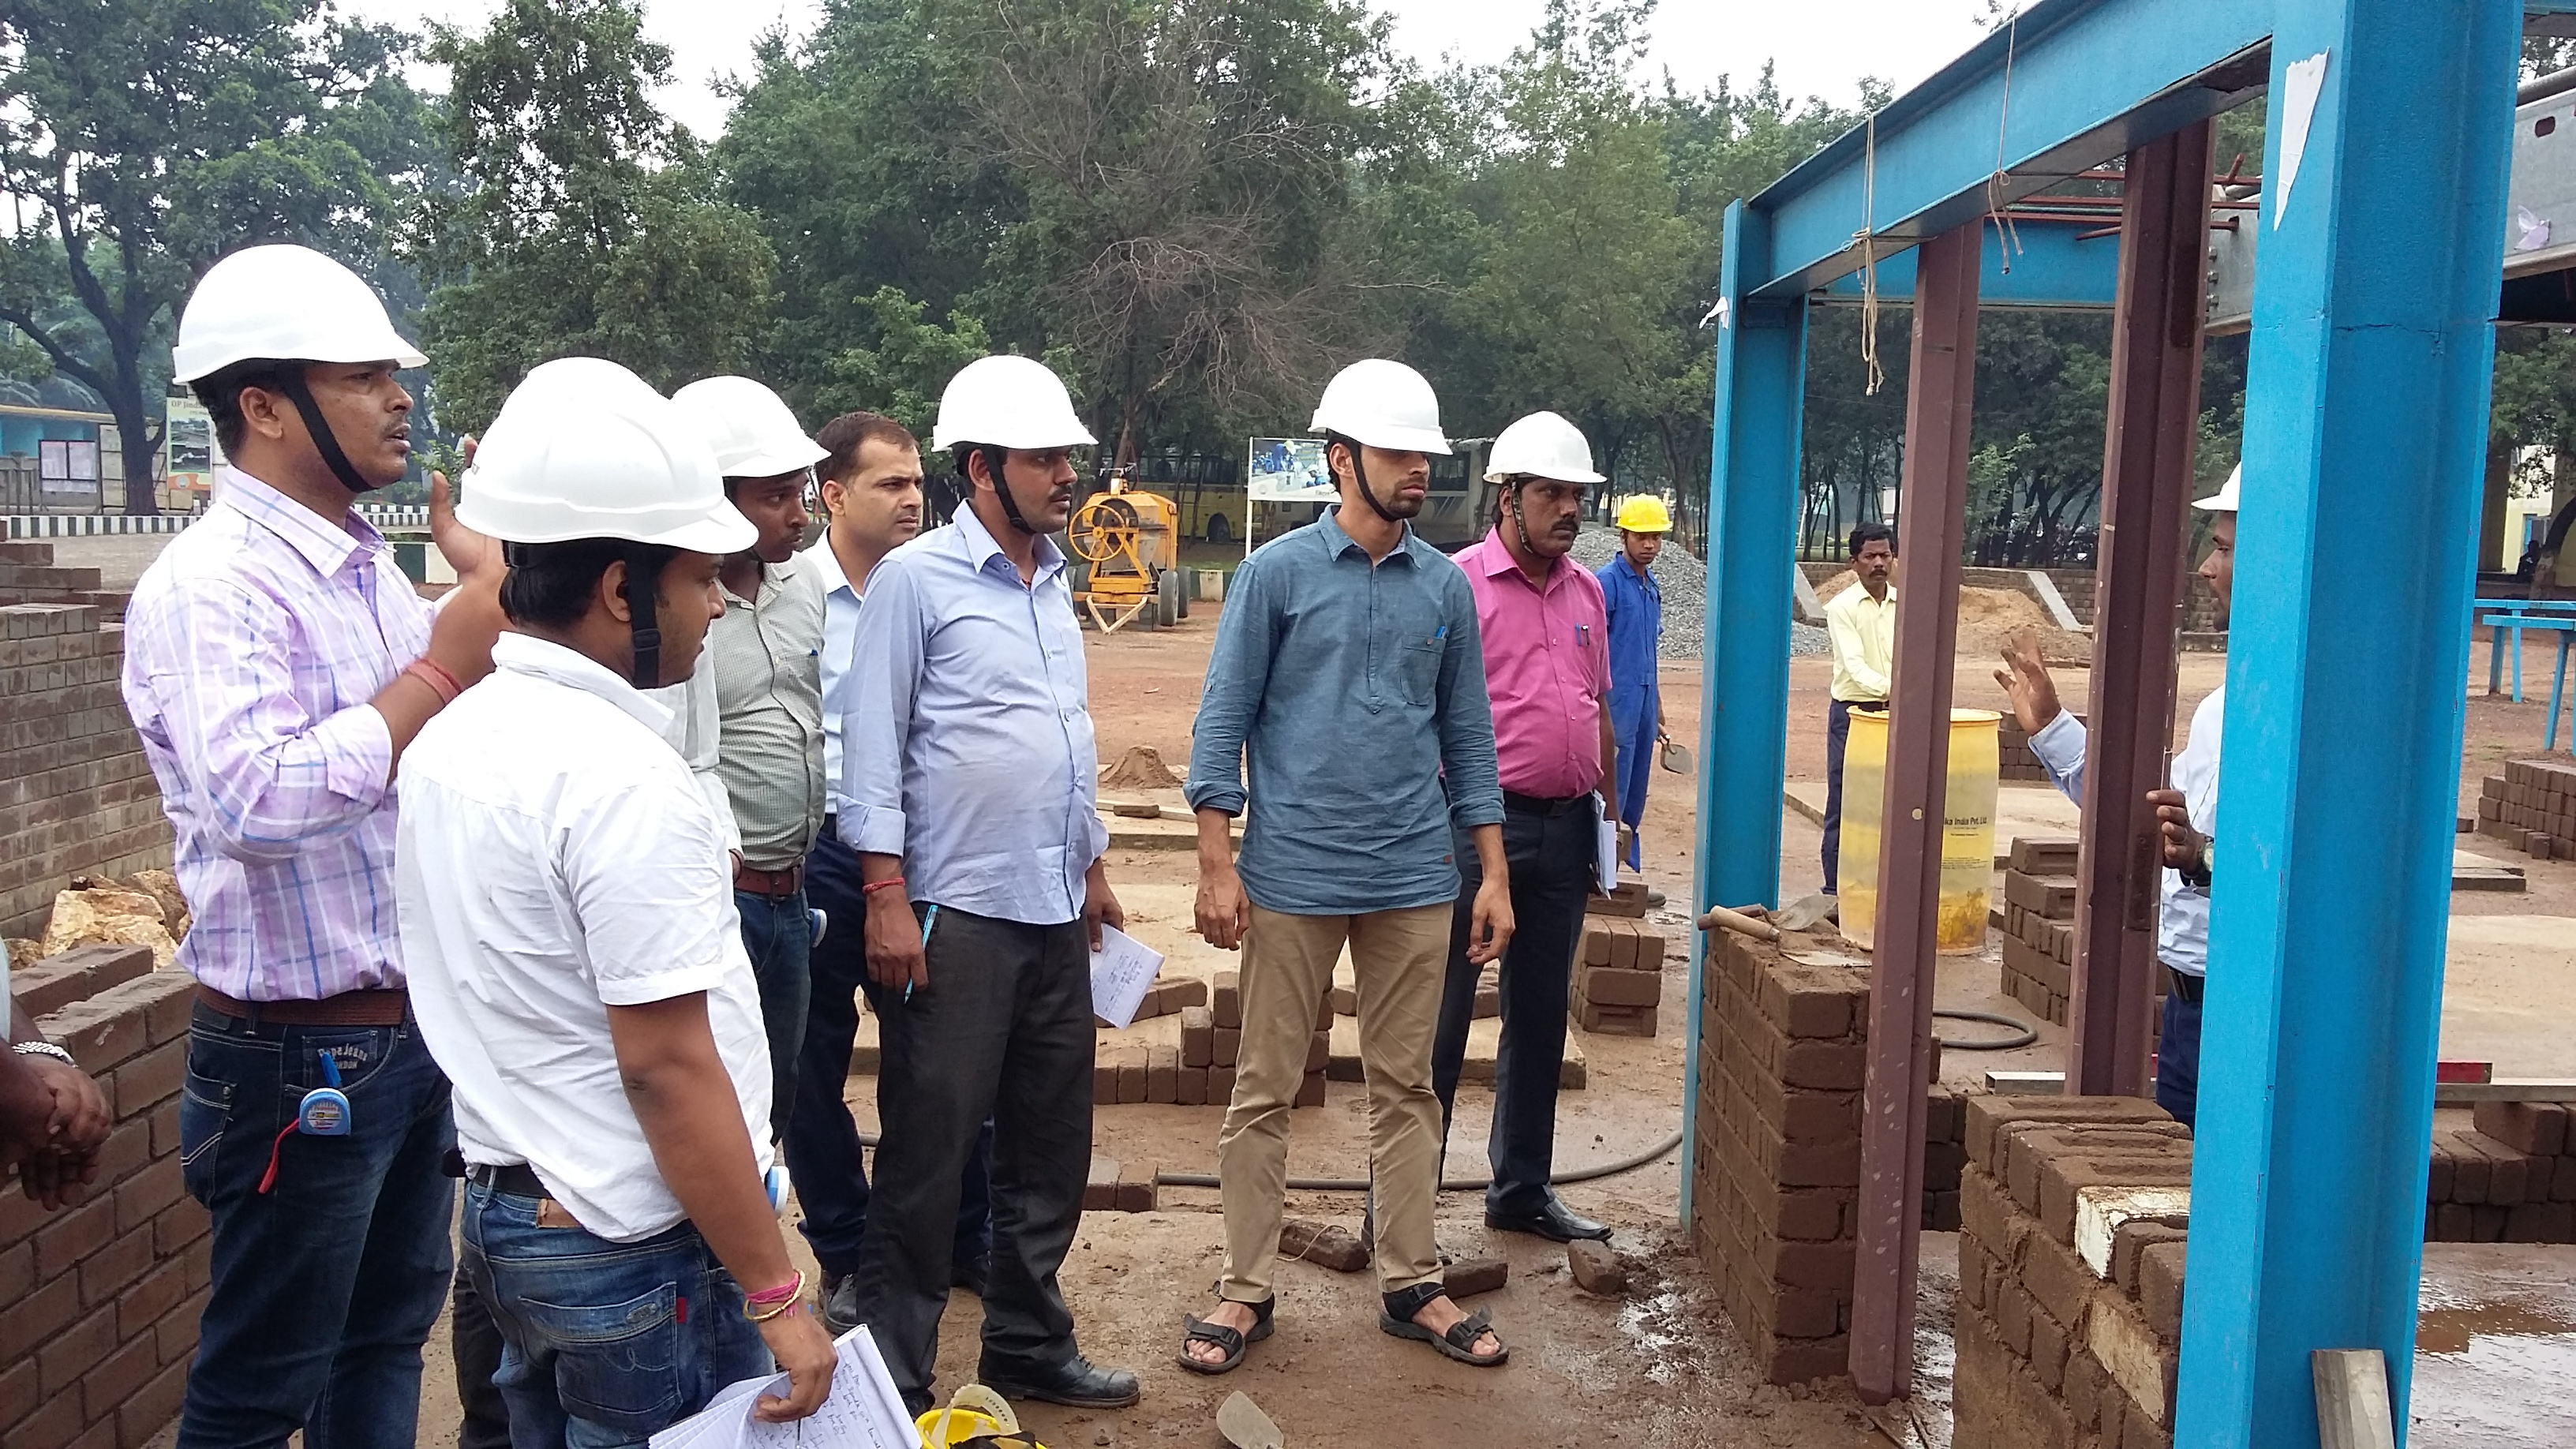NoJacket: (432, 336, 759, 1267), (147, 244, 416, 996), (885, 359, 1113, 932), (1249, 352, 1460, 915), (1483, 403, 1624, 835)
